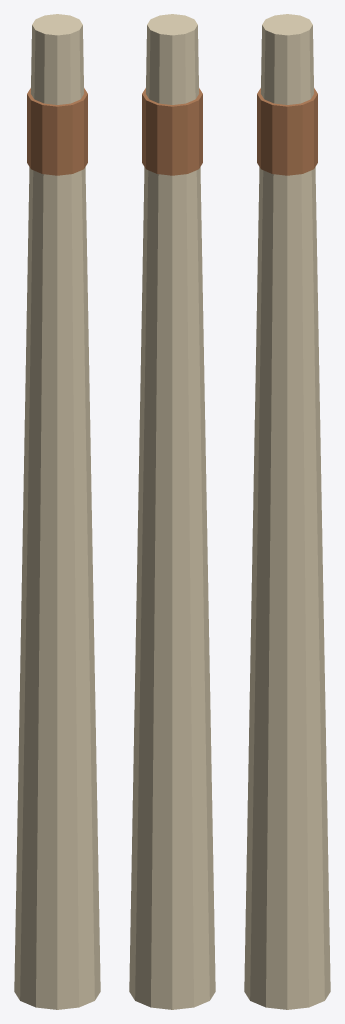
Rendered from hsc3_power_secondary_stack.glb.
3 renders of one model, left to right at view 1: azimuth 90°, elevation 25°; view 2: azimuth 150°, elevation 25°; view 3: azimuth 270°, elevation 25°, orthographic.
Parts seen in each view (by area): view 1: hsc3_power_secondary_stack__hsc3-cream-enamel, hsc3_power_secondary_stack__hsc3-roasted-copper; view 2: hsc3_power_secondary_stack__hsc3-cream-enamel, hsc3_power_secondary_stack__hsc3-roasted-copper; view 3: hsc3_power_secondary_stack__hsc3-cream-enamel, hsc3_power_secondary_stack__hsc3-roasted-copper.
Part boxes in pixels (left/top/right/bottom): hsc3_power_secondary_stack__hsc3-cream-enamel: left=14, top=14, right=100, bottom=1009; hsc3_power_secondary_stack__hsc3-roasted-copper: left=27, top=88, right=87, bottom=175; hsc3_power_secondary_stack__hsc3-cream-enamel: left=129, top=14, right=215, bottom=1009; hsc3_power_secondary_stack__hsc3-roasted-copper: left=142, top=88, right=202, bottom=175; hsc3_power_secondary_stack__hsc3-cream-enamel: left=244, top=14, right=330, bottom=1009; hsc3_power_secondary_stack__hsc3-roasted-copper: left=257, top=88, right=317, bottom=175.
Bounding box in the file's own units: 3.4 × 42 × 3.4.
